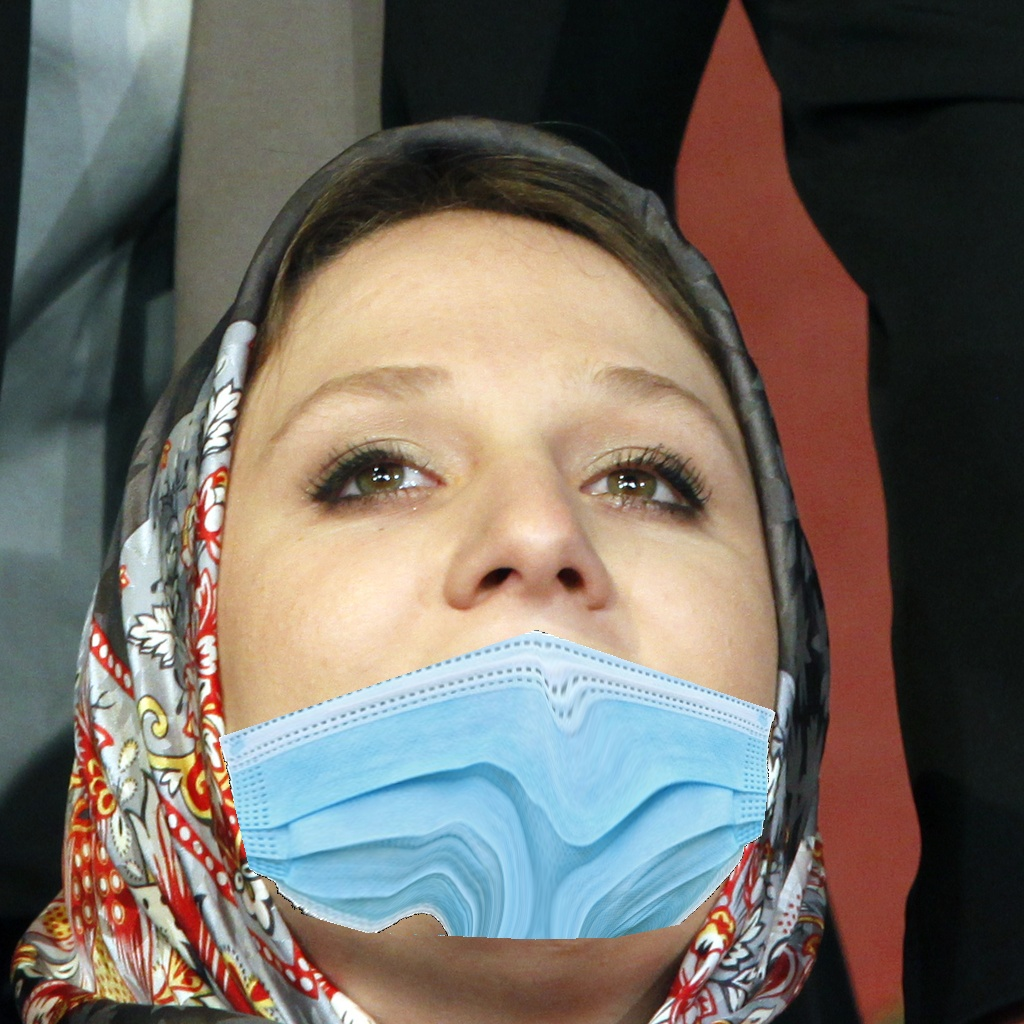mascarilla_mal_puesta: (204, 395, 832, 978)
